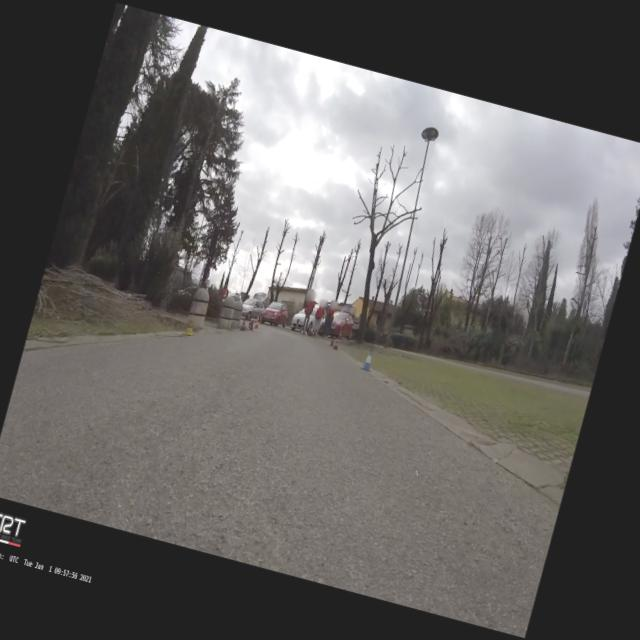blue_cone: (359, 347, 376, 372)
large_orange_cone: (253, 314, 262, 329), (240, 318, 248, 332), (332, 336, 340, 349)
unknown_cone: (249, 321, 254, 330), (330, 336, 334, 346), (248, 322, 251, 328)
yellow_cone: (181, 312, 197, 336)
